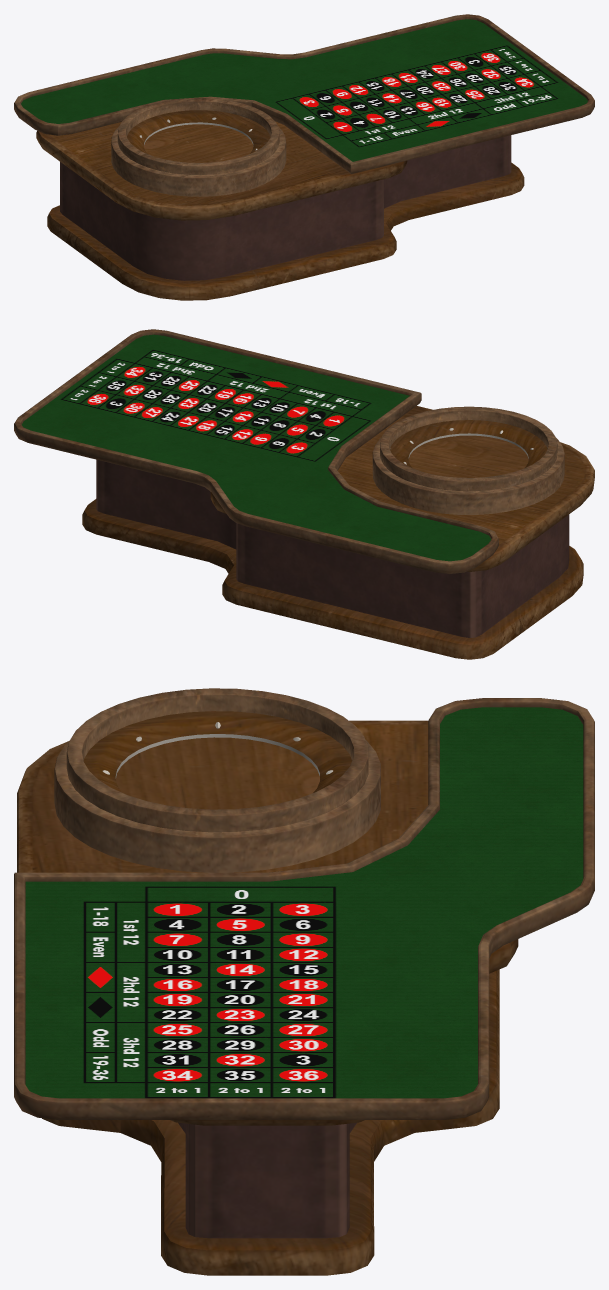
Rendered from RouletteTable.fbx.
3 views of the same model, one above another, from view 1: azimuth 30°, elevation 25°; view 2: azimuth 150°, elevation 25°; view 3: azimuth 270°, elevation 25° (orthographic). The views are drawn at different scales.
Visible parts, largest first — view 1: SM_RouletteDesk; view 2: SM_RouletteDesk; view 3: SM_RouletteDesk.
Part boxes in pixels (box(x1,y1,x2,y2)): SM_RouletteDesk: box(14, 14, 594, 300); SM_RouletteDesk: box(14, 329, 594, 659); SM_RouletteDesk: box(14, 688, 594, 1275).
Size of the model in its own units: 4165 by 1116 by 2524.
